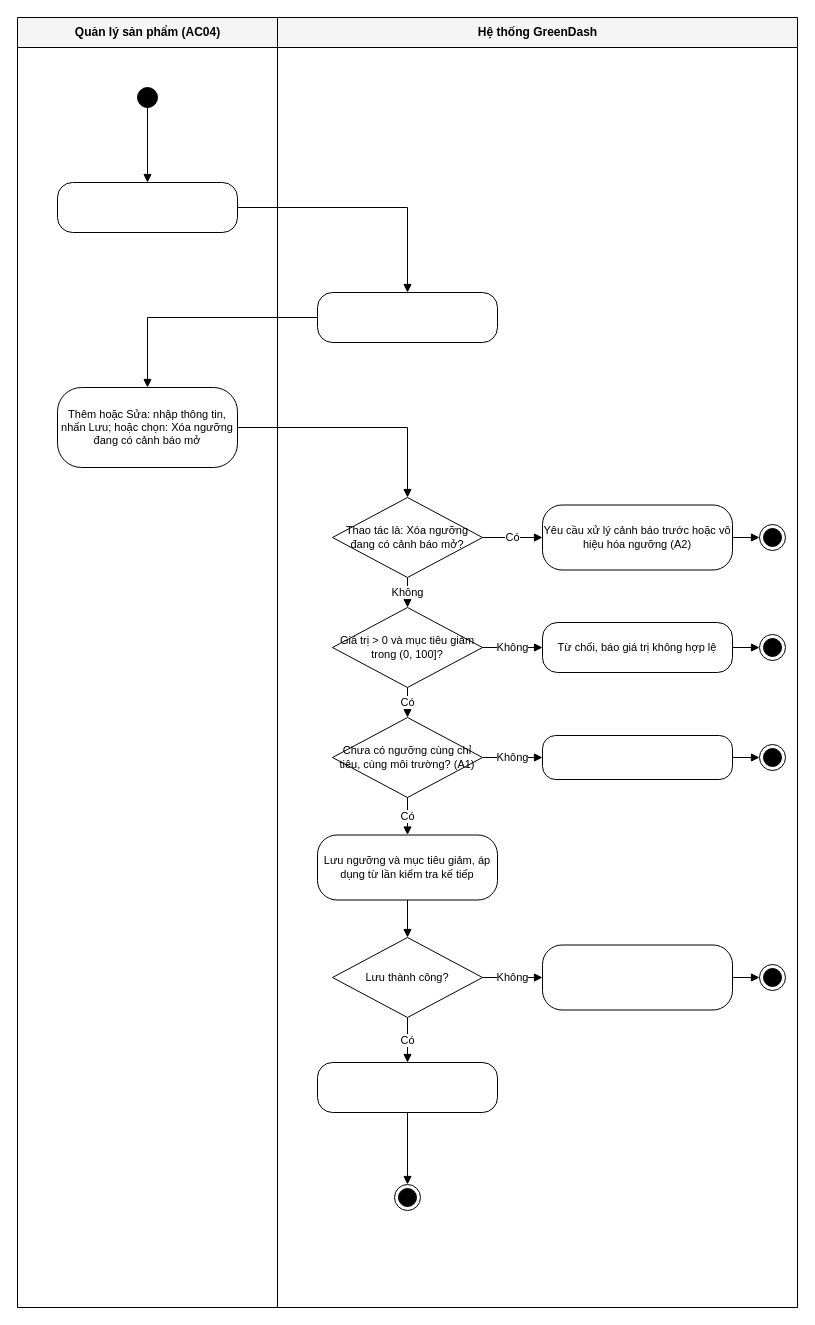
Some shapes in this 815 by 1325 pixel diagram are drawn without their labels. The shapes that lost their labels are listed below. From the top down, each one's box as (x1, y1, x2, y2) in pixels, then its label:
(56, 182, 238, 232): Mở màn hình Ngưỡng cảnh báo, chọn thao tác
(316, 292, 498, 342): Hiển thị danh sách và biểu mẫu
(542, 734, 732, 780): Từ chối: trùng ngưỡng
(542, 944, 732, 1010): Rollback, giữ nguyên dữ liệu đã nhập trên biểu mẫu (E1)
(316, 1062, 498, 1112): Thông báo thành công, cập nhật danh sách
